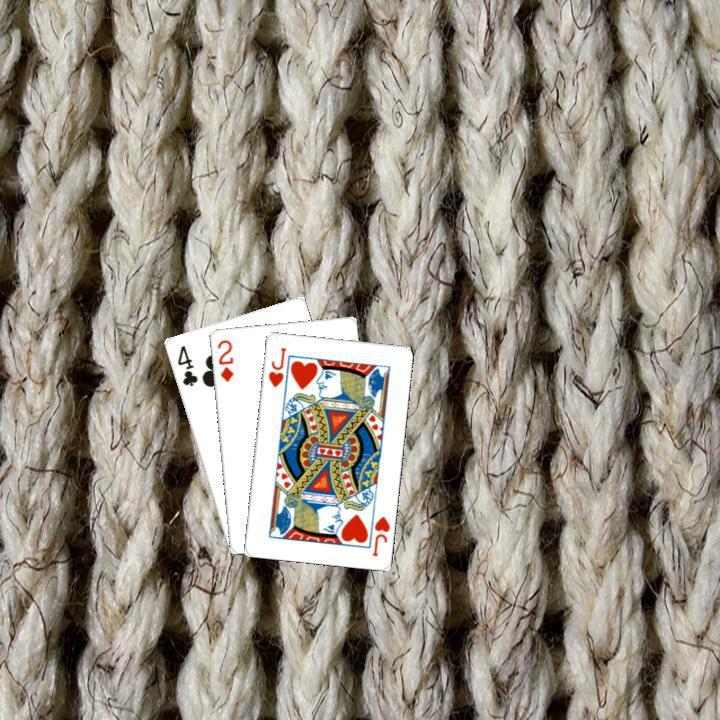2: (213, 335, 235, 383)
4: (172, 341, 199, 388)
J: (264, 343, 288, 389), (368, 512, 391, 558)
